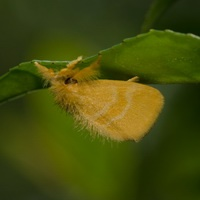insect: (34, 55, 163, 140)
